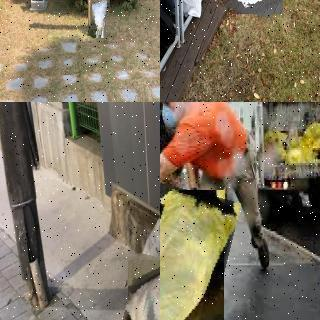Garbage: (160, 185, 232, 320), (123, 256, 160, 320), (135, 203, 160, 281), (89, 0, 108, 38)
